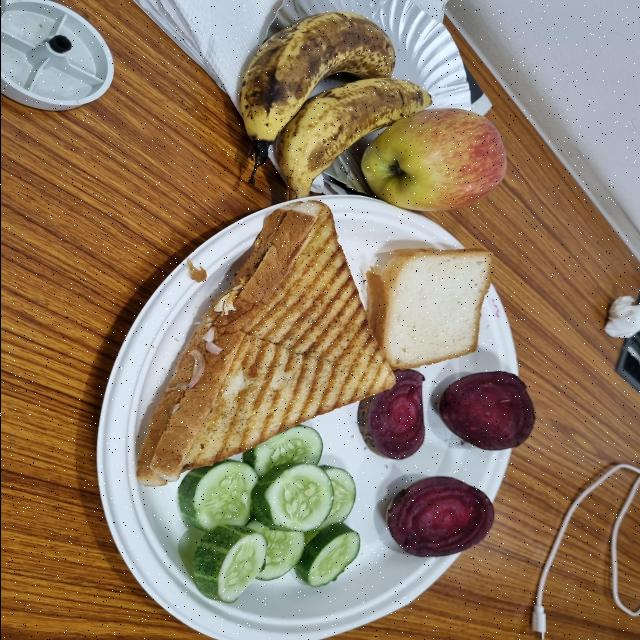apple: (358, 108, 504, 216)
banana: (233, 14, 396, 145), (266, 75, 431, 197)
cucumber: (179, 526, 297, 602), (246, 463, 351, 533), (176, 458, 256, 534), (237, 423, 322, 484), (289, 527, 360, 589)
